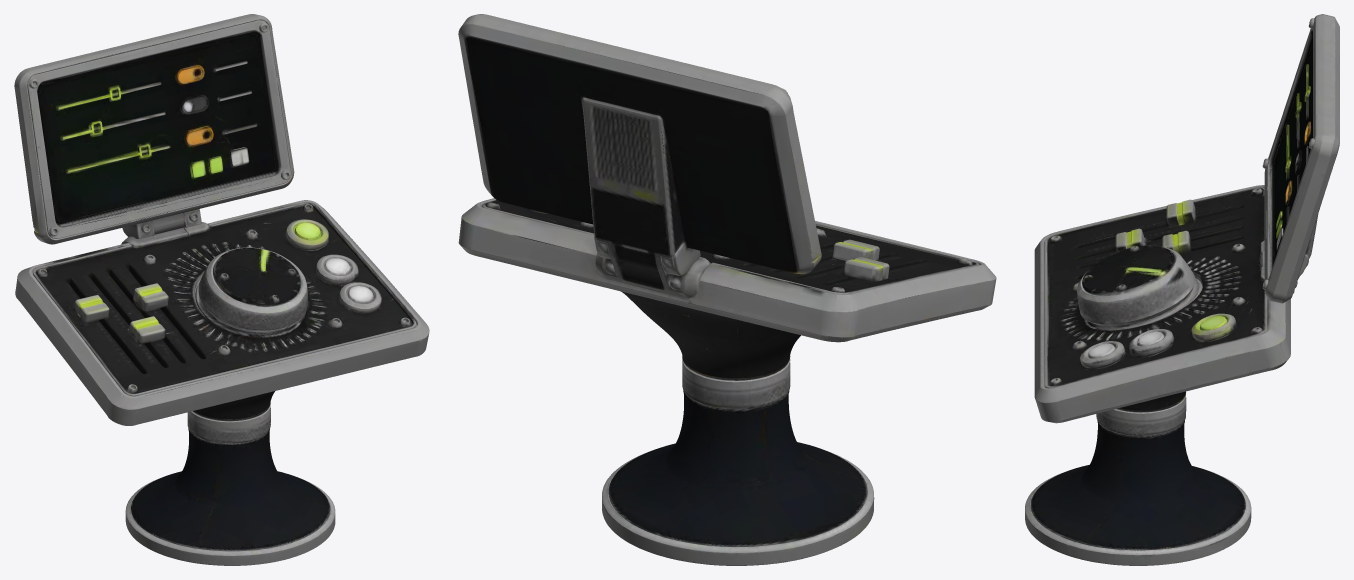
The model's file is launch-console-sd.glb.
3 renders of one model, left to right at view 1: azimuth 30°, elevation 25°; view 2: azimuth 150°, elevation 25°; view 3: azimuth 270°, elevation 25°, orthographic. The views are drawn at different scales.
Parts seen in each view (by area): view 1: material; view 2: material; view 3: material.
Part boxes in pixels (x1,y1,x2,y2): material: (14, 14, 429, 565); material: (458, 14, 996, 565); material: (1025, 14, 1339, 565).
Size of the model in its own units: 1.32 by 1.65 by 1.06.
1 material, 1 textured.
